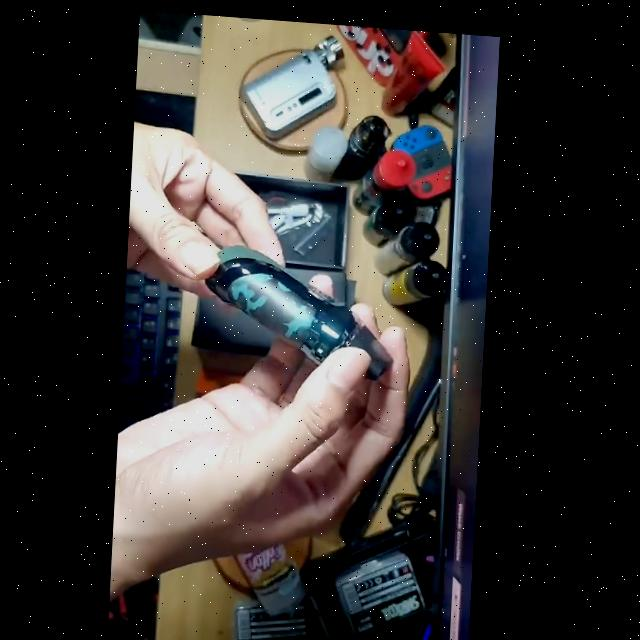vape: (206, 237, 403, 376), (241, 26, 346, 142)
